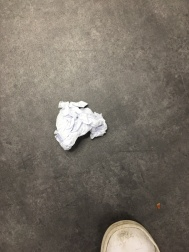paper_white: (39, 85, 121, 157)
